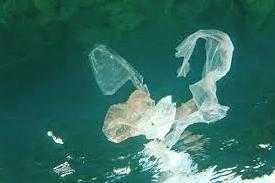Trash: (150, 31, 238, 146)
